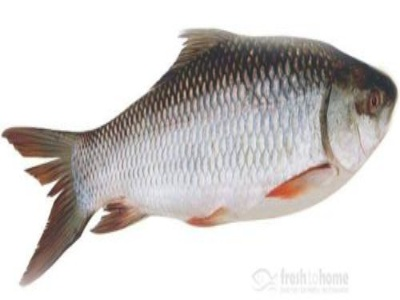rohu: (5, 15, 398, 287)
